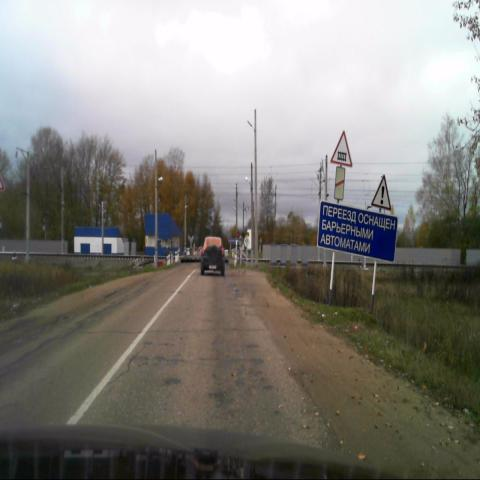1_1: (331, 130, 353, 167)
1_33: (372, 172, 392, 211)
